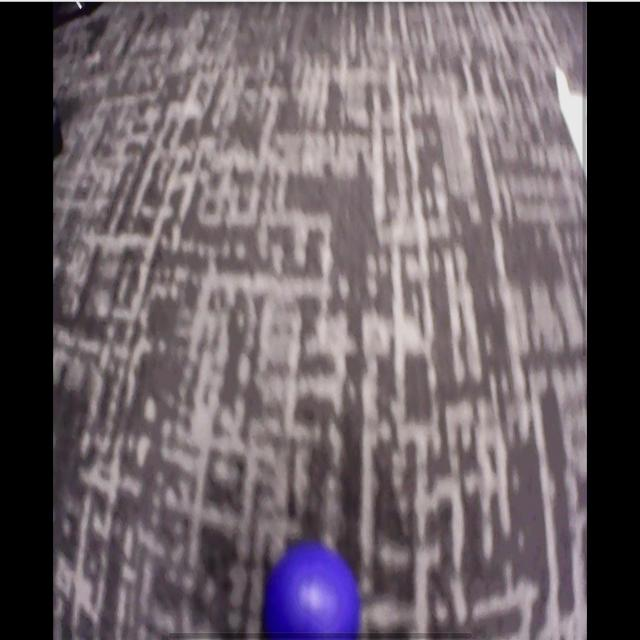ball: (266, 546, 361, 640)
